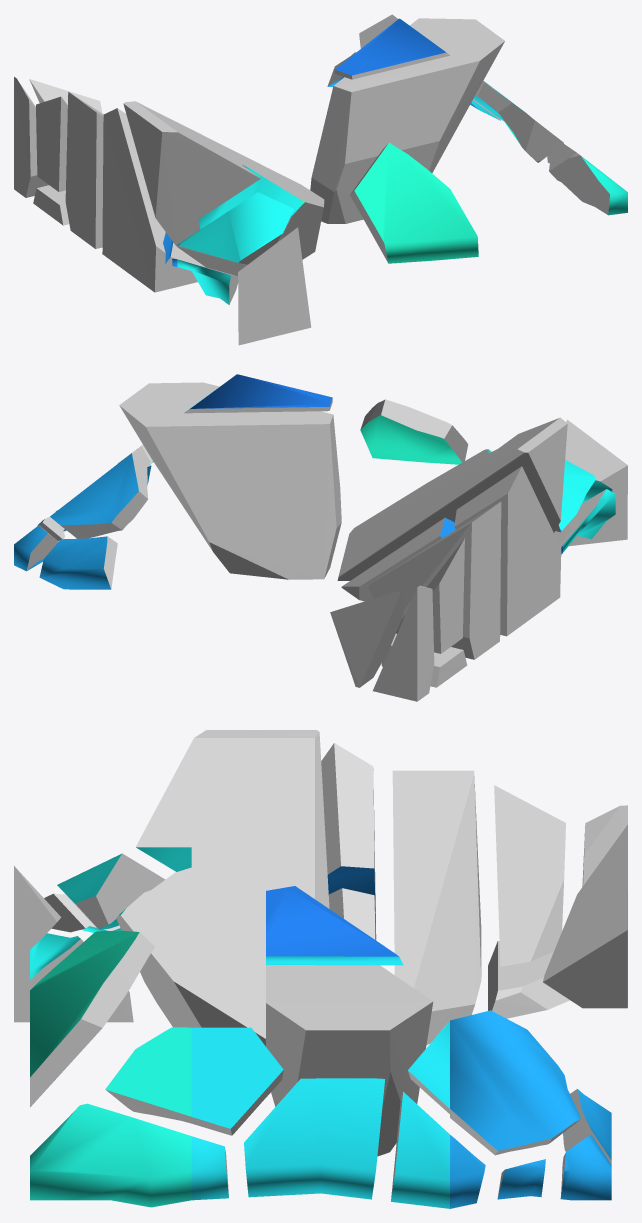
Rendered from Structure_Tower_Knight_Human_03_debris_cells_external_walls_rooftop_01.fbx.
3 renders of one model, top to bottom at view 1: azimuth 30°, elevation 25°; view 2: azimuth 150°, elevation 25°; view 3: azimuth 270°, elevation 25°, orthographic. The views are drawn at different scales.
Visible parts, largest first — view 1: Structure_Tower_Knight_Human_03.013_cell.011, Structure_Tower_Knight_Human_03.013_cell.001, Structure_Tower_Knight_Human_03.013_cell.010, Structure_Tower_Knight_Human_03.013_cell.030, Structure_Tower_Knight_Human_03.013_cell.021, Structure_Tower_Knight_Human_03.013_cell.026, Structure_Tower_Knight_Human_03.013_cell.007, Structure_Tower_Knight_Human_03.013_cell.004, Structure_Tower_Knight_Human_03.013_cell.027, Structure_Tower_Knight_Human_03.013_cell.020, Structure_Tower_Knight_Human_03.013_cell.002, Structure_Tower_Knight_Human_03.013_cell.016 (+4 smaller); view 2: Structure_Tower_Knight_Human_03.013_cell.011, Structure_Tower_Knight_Human_03.013_cell.001, Structure_Tower_Knight_Human_03.013_cell.030, Structure_Tower_Knight_Human_03.013_cell.026, Structure_Tower_Knight_Human_03.013_cell.010, Structure_Tower_Knight_Human_03.013_cell.029, Structure_Tower_Knight_Human_03.013_cell.002, Structure_Tower_Knight_Human_03.013_cell.018, Structure_Tower_Knight_Human_03.013_cell.021, Structure_Tower_Knight_Human_03.013_cell.004, Structure_Tower_Knight_Human_03.013_cell.023, Structure_Tower_Knight_Human_03.013_cell.020 (+4 smaller); view 3: Structure_Tower_Knight_Human_03.013_cell.001, Structure_Tower_Knight_Human_03.013_cell.026, Structure_Tower_Knight_Human_03.013_cell.011, Structure_Tower_Knight_Human_03.013_cell.027, Structure_Tower_Knight_Human_03.013_cell.032, Structure_Tower_Knight_Human_03.013_cell.029, Structure_Tower_Knight_Human_03.013_cell.016, Structure_Tower_Knight_Human_03.013_cell.010, Structure_Tower_Knight_Human_03.013_cell.020, Structure_Tower_Knight_Human_03.013_cell.018, Structure_Tower_Knight_Human_03.013_cell.030, Structure_Tower_Knight_Human_03.013_cell.009 (+10 smaller).
Boxes of the visible parts, x1,y1,x2,y2 form: Structure_Tower_Knight_Human_03.013_cell.011: (310, 18, 504, 223); Structure_Tower_Knight_Human_03.013_cell.001: (123, 101, 324, 276); Structure_Tower_Knight_Human_03.013_cell.010: (350, 142, 478, 263); Structure_Tower_Knight_Human_03.013_cell.030: (102, 108, 205, 292); Structure_Tower_Knight_Human_03.013_cell.021: (238, 227, 311, 345); Structure_Tower_Knight_Human_03.013_cell.026: (65, 92, 103, 248); Structure_Tower_Knight_Human_03.013_cell.007: (177, 192, 293, 264); Structure_Tower_Knight_Human_03.013_cell.004: (334, 18, 449, 79); Structure_Tower_Knight_Human_03.013_cell.027: (547, 143, 627, 215); Structure_Tower_Knight_Human_03.013_cell.020: (36, 96, 67, 191); Structure_Tower_Knight_Human_03.013_cell.002: (14, 77, 48, 197); Structure_Tower_Knight_Human_03.013_cell.016: (477, 82, 563, 162); Structure_Tower_Knight_Human_03.013_cell.011: (119, 382, 341, 579); Structure_Tower_Knight_Human_03.013_cell.001: (337, 417, 567, 580); Structure_Tower_Knight_Human_03.013_cell.030: (341, 466, 561, 636); Structure_Tower_Knight_Human_03.013_cell.026: (365, 501, 501, 659); Structure_Tower_Knight_Human_03.013_cell.010: (360, 399, 468, 464); Structure_Tower_Knight_Human_03.013_cell.029: (50, 446, 151, 538); Structure_Tower_Knight_Human_03.013_cell.002: (373, 585, 434, 701); Structure_Tower_Knight_Human_03.013_cell.018: (330, 590, 403, 687); Structure_Tower_Knight_Human_03.013_cell.021: (554, 419, 627, 546); Structure_Tower_Knight_Human_03.013_cell.004: (184, 374, 332, 413); Structure_Tower_Knight_Human_03.013_cell.023: (39, 536, 117, 589); Structure_Tower_Knight_Human_03.013_cell.020: (396, 538, 464, 653); Structure_Tower_Knight_Human_03.013_cell.001: (116, 730, 329, 1046); Structure_Tower_Knight_Human_03.013_cell.026: (392, 770, 481, 1044); Structure_Tower_Knight_Human_03.013_cell.011: (266, 965, 433, 1156); Structure_Tower_Knight_Human_03.013_cell.027: (30, 1103, 228, 1207); Structure_Tower_Knight_Human_03.013_cell.032: (244, 1078, 385, 1199); Structure_Tower_Knight_Human_03.013_cell.029: (450, 1010, 580, 1155); Structure_Tower_Knight_Human_03.013_cell.016: (105, 1027, 283, 1135); Structure_Tower_Knight_Human_03.013_cell.010: (30, 930, 154, 1107); Structure_Tower_Knight_Human_03.013_cell.020: (494, 785, 565, 966); Structure_Tower_Knight_Human_03.013_cell.018: (543, 824, 627, 1008); Structure_Tower_Knight_Human_03.013_cell.030: (321, 743, 376, 940); Structure_Tower_Knight_Human_03.013_cell.009: (391, 1091, 485, 1208).
Size of the model in its own units: 205 by 80.63 by 190.
